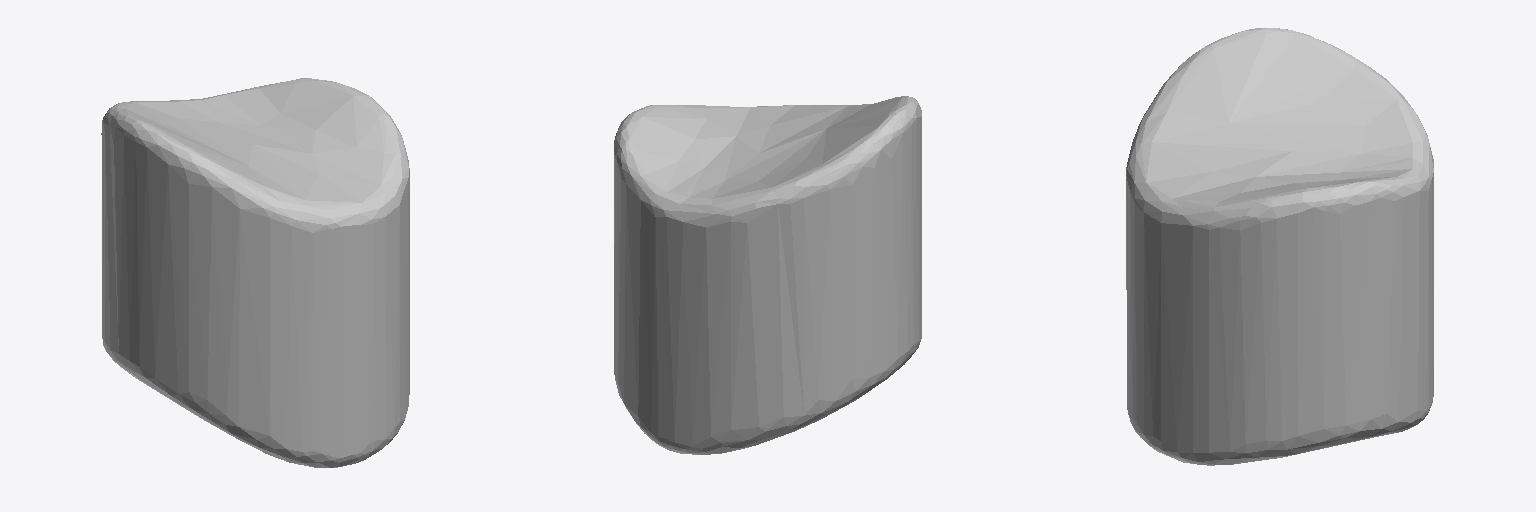
File: dentures-cavity fill.obj
3 renders of one model, left to right at view 1: azimuth 30°, elevation 25°; view 2: azimuth 150°, elevation 25°; view 3: azimuth 270°, elevation 25°, orthographic.
Size of the model in its own units: 2.95 by 3.55 by 2.95.